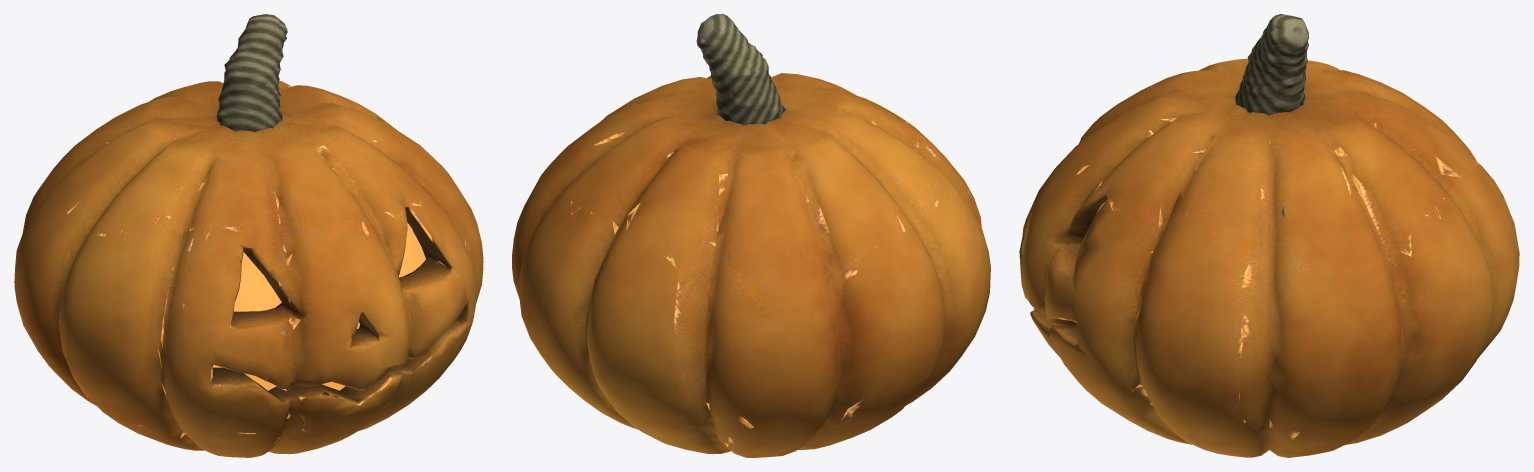
Rendered from jack_o_lantern.glb.
3 renders of one model, left to right at view 1: azimuth 30°, elevation 25°; view 2: azimuth 150°, elevation 25°; view 3: azimuth 270°, elevation 25°, orthographic. The views are drawn at different scales.
Visible parts, largest first — view 1: Jack_Shell, Jack_Stem, Jack_Glow; view 2: Jack_Shell, Jack_Stem; view 3: Jack_Shell, Jack_Stem.
Part boxes in pixels (x1=…): Jack_Shell: x1=14, y1=81, x2=483, y2=457; Jack_Stem: x1=216, y1=14, x2=287, y2=131; Jack_Glow: x1=213, y1=222, x2=425, y2=390; Jack_Shell: x1=512, y1=73, x2=990, y2=457; Jack_Stem: x1=696, y1=14, x2=785, y2=124; Jack_Shell: x1=1019, y1=58, x2=1519, y2=457; Jack_Stem: x1=1235, y1=14, x2=1308, y2=115.
Size of the model in its own units: 0.5737 by 0.5523 by 0.5838.
Materials: 1 (1 with a texture image).
